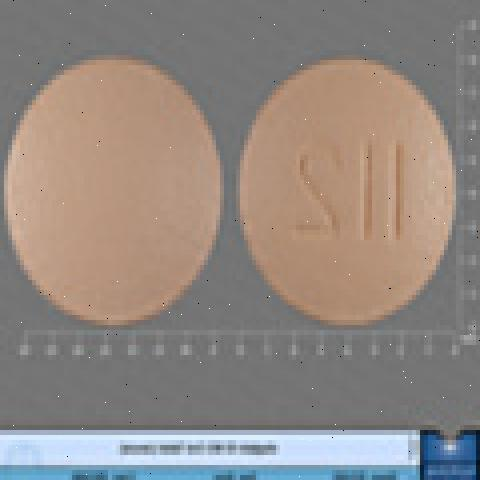Pill: (228, 38, 458, 356), (0, 43, 228, 343)
